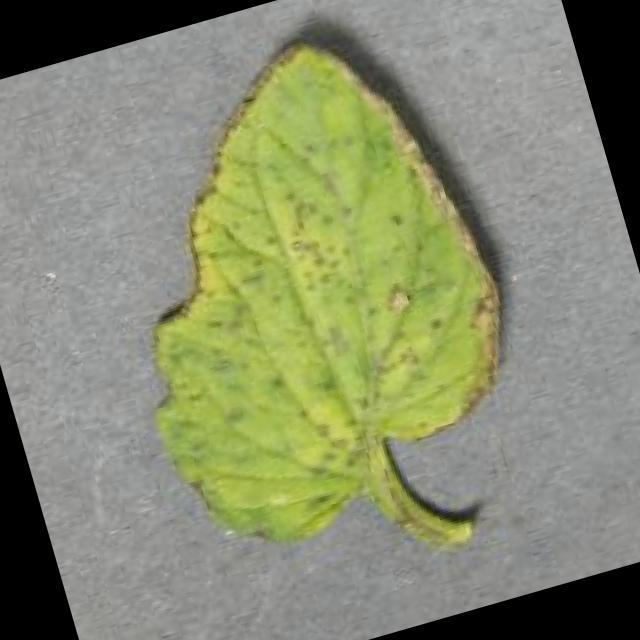Tomato bacterial spot leaf: (53, 0, 551, 577)
